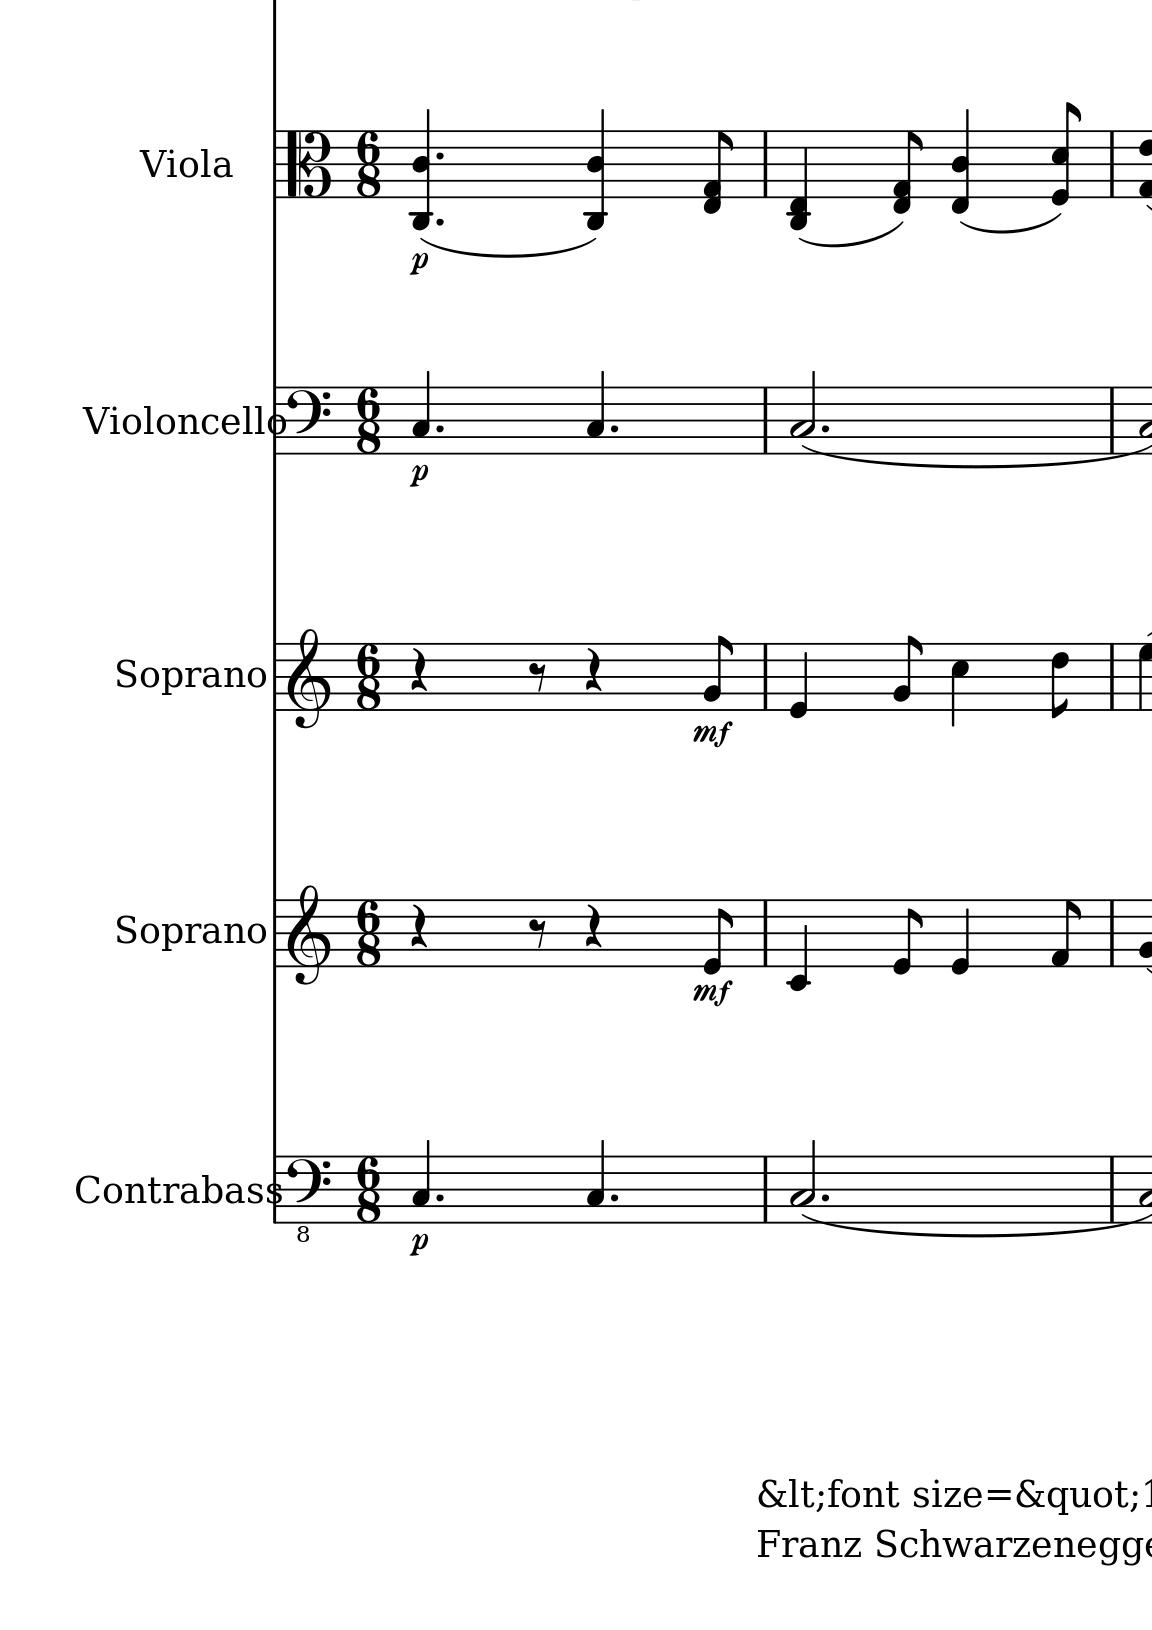2_3: (789, 1138, 817, 1225), (789, 369, 815, 456)
4_-1_4: (950, 108, 972, 216)
4_-2: (783, 898, 810, 992)
4_-3_-1: (785, 130, 813, 232)
4_-3_4: (406, 107, 436, 231), (581, 108, 608, 232)
4_0: (949, 897, 972, 977), (787, 642, 809, 720)
4_3: (409, 369, 431, 455), (409, 1138, 431, 1224), (583, 369, 605, 455), (583, 1138, 605, 1224)
4_5: (948, 641, 970, 729)
6: (353, 127, 382, 164), (353, 641, 382, 677), (353, 898, 382, 933), (353, 1154, 382, 1189), (354, 385, 382, 420)
8: (353, 1188, 383, 1224), (353, 932, 382, 968), (354, 417, 382, 455), (354, 162, 382, 198), (354, 675, 382, 712)
8_-1_1: (701, 130, 736, 216), (893, 128, 926, 214)
8_0: (890, 898, 924, 976), (702, 898, 733, 975)
8_0_5: (1051, 101, 1083, 207)
8_1: (1049, 898, 1081, 970)
8_2: (701, 633, 732, 712), (891, 633, 923, 712)
8_6: (1049, 642, 1070, 722)
Cclef: (284, 130, 332, 201)
Fclef: (286, 385, 330, 456)
Gclef: (286, 627, 330, 732), (286, 884, 330, 987)
Lower_Fclef: (284, 1156, 333, 1242)
Rests4: (581, 646, 603, 694), (406, 902, 429, 950), (581, 903, 603, 950), (406, 646, 428, 693)
Rests8: (526, 660, 549, 694), (526, 917, 549, 950)
Single_barline: (266, 130, 286, 198), (266, 388, 286, 455), (756, 388, 775, 454), (756, 1156, 775, 1222), (267, 1156, 286, 1225), (268, 898, 286, 968), (756, 132, 773, 198), (757, 644, 774, 710), (1103, 900, 1121, 966), (268, 643, 284, 712), (1103, 643, 1120, 710), (1103, 131, 1120, 197), (757, 901, 773, 967), (1105, 388, 1120, 452), (1105, 1156, 1120, 1221)
Slur: (416, 238, 598, 260), (798, 222, 905, 248), (959, 214, 1062, 236)
TimeSig: (353, 130, 384, 199), (354, 386, 383, 456), (354, 642, 383, 712), (354, 898, 383, 968), (354, 1155, 383, 1225)
Vla: (142, 145, 231, 181)
dot: (818, 421, 832, 437), (818, 1190, 832, 1205), (433, 150, 445, 163), (433, 216, 445, 229), (433, 422, 445, 435), (433, 1191, 444, 1204), (608, 422, 618, 435), (608, 1193, 618, 1204)
mf: (689, 719, 733, 751), (691, 979, 734, 1009)
p: (406, 462, 431, 493), (406, 249, 429, 279), (406, 1232, 430, 1260)
